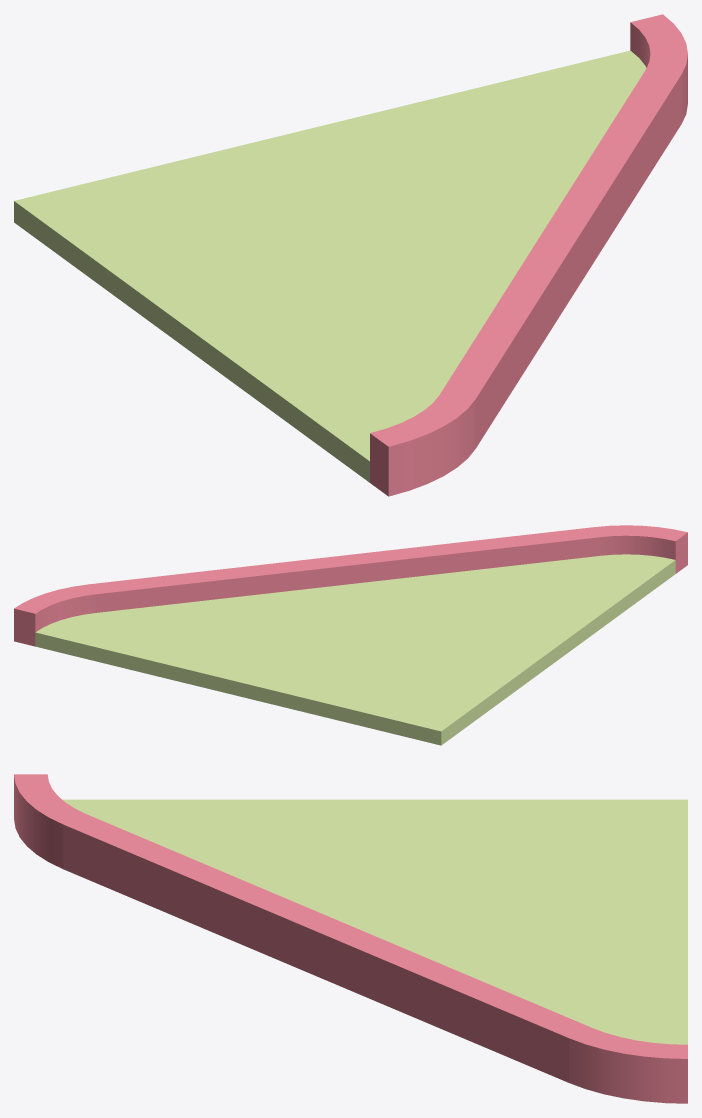
Rendered from skewLargeCornerOpen.fbx.
The picture shows the model from 3 angles, top to bottom: view 1: azimuth 30°, elevation 25°; view 2: azimuth 150°, elevation 25°; view 3: azimuth 270°, elevation 25°; orthographic projection. The views are drawn at different scales.
Parts seen in each view (by area): view 1: skewLargeCornerOpen; view 2: skewLargeCornerOpen; view 3: skewLargeCornerOpen.
Part boxes in pixels (box(x1,y1,x2,y2)): skewLargeCornerOpen: box(14, 14, 687, 496); skewLargeCornerOpen: box(14, 525, 687, 745); skewLargeCornerOpen: box(14, 774, 687, 1103).
Size of the model in its own units: 200 by 14.67 by 200.
